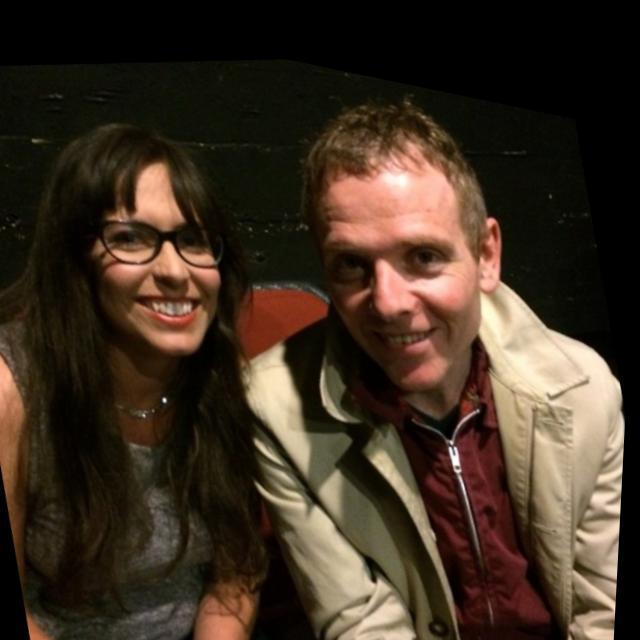Nonhelmet: (299, 96, 504, 395), (17, 111, 241, 375)
